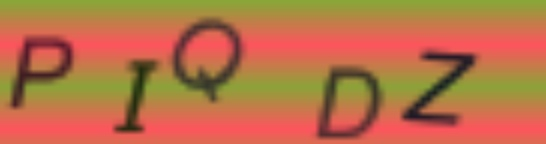D: (311, 62, 384, 140)
I: (111, 56, 164, 136)
P: (7, 33, 78, 113)
Q: (165, 13, 249, 106)
Z: (394, 47, 482, 127)
